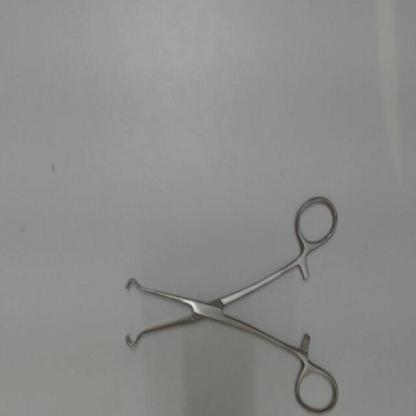Babcock Tissue Forceps: (114, 183, 347, 415)
